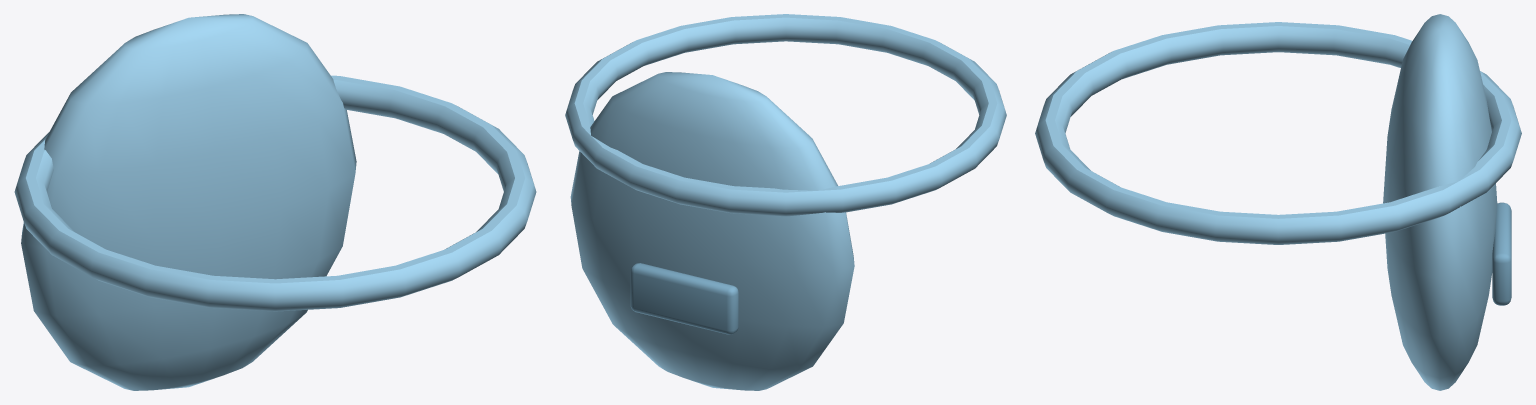
File: Top_Apron.fbx
3 renders of one model, left to right at view 1: azimuth 30°, elevation 25°; view 2: azimuth 150°, elevation 25°; view 3: azimuth 270°, elevation 25°, orthographic. The views are drawn at different scales.
Visible parts, largest first — view 1: Apron, Apron_Tie; view 2: Apron, Apron_Tie, Apron_Pocket; view 3: Apron, Apron_Tie, Apron_Pocket.
Part boxes in pixels (x1,y1,x2,y2): Apron: (21,14,356,390); Apron_Tie: (14,75,536,311); Apron: (570,72,854,390); Apron_Tie: (565,14,1006,216); Apron_Pocket: (630,263,738,334); Apron: (1383,14,1497,390); Apron_Tie: (1035,22,1521,244); Apron_Pocket: (1492,202,1511,305).
Size of the model in its own units: 51.2 by 40 by 51.2.
